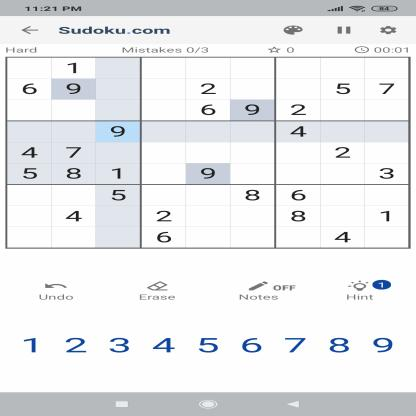sudoku: (2, 54, 413, 252)
